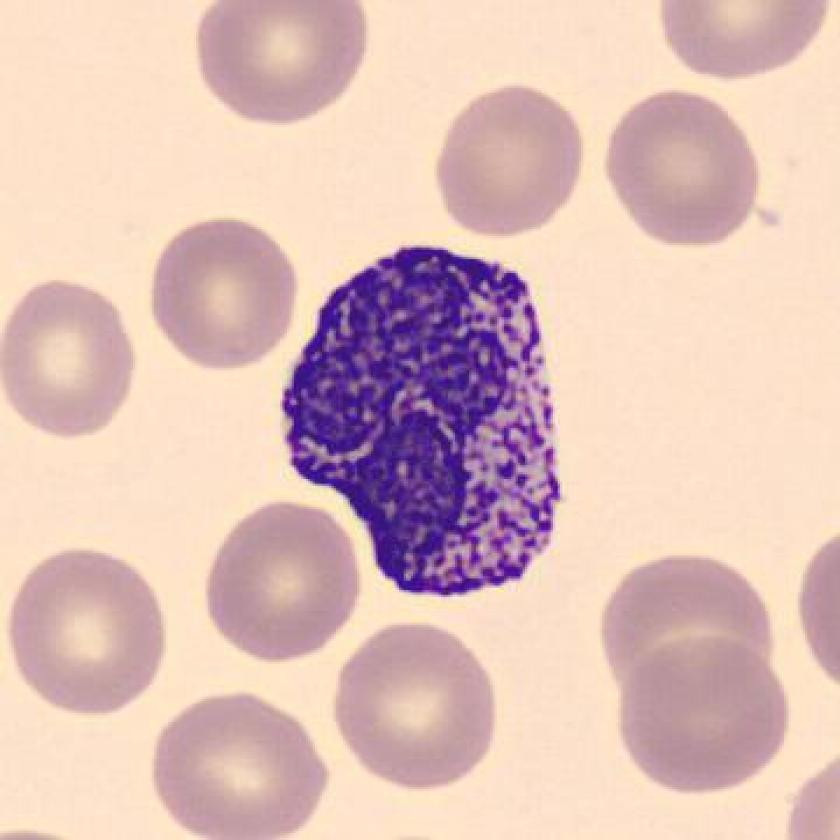basophil: (279, 242, 580, 610)
